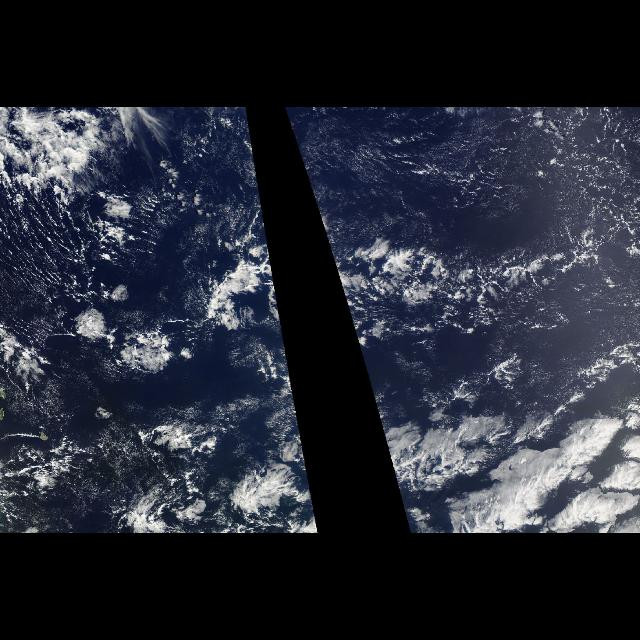Fish: (320, 216, 624, 354), (175, 216, 287, 354), (382, 425, 566, 505), (202, 425, 316, 505)
Flower: (366, 383, 634, 533), (136, 383, 320, 533)
Gravel: (516, 112, 634, 228)
Sugar: (284, 107, 638, 245), (0, 200, 111, 310), (168, 107, 266, 213)
